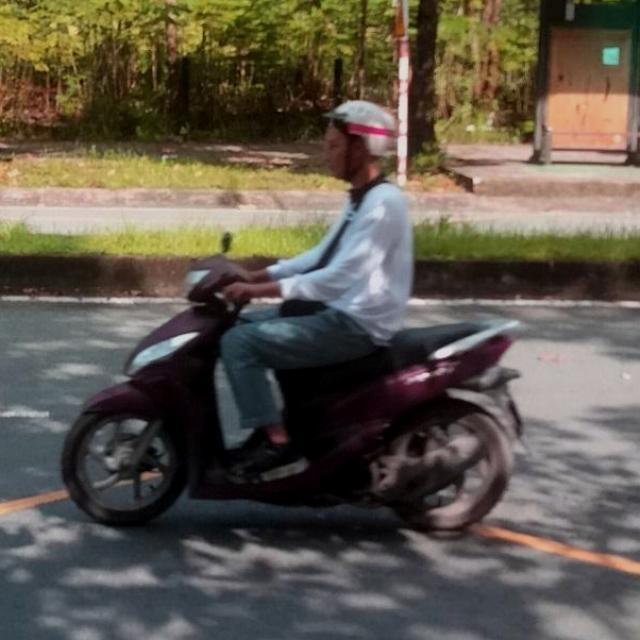Helmet: (320, 97, 394, 182)
